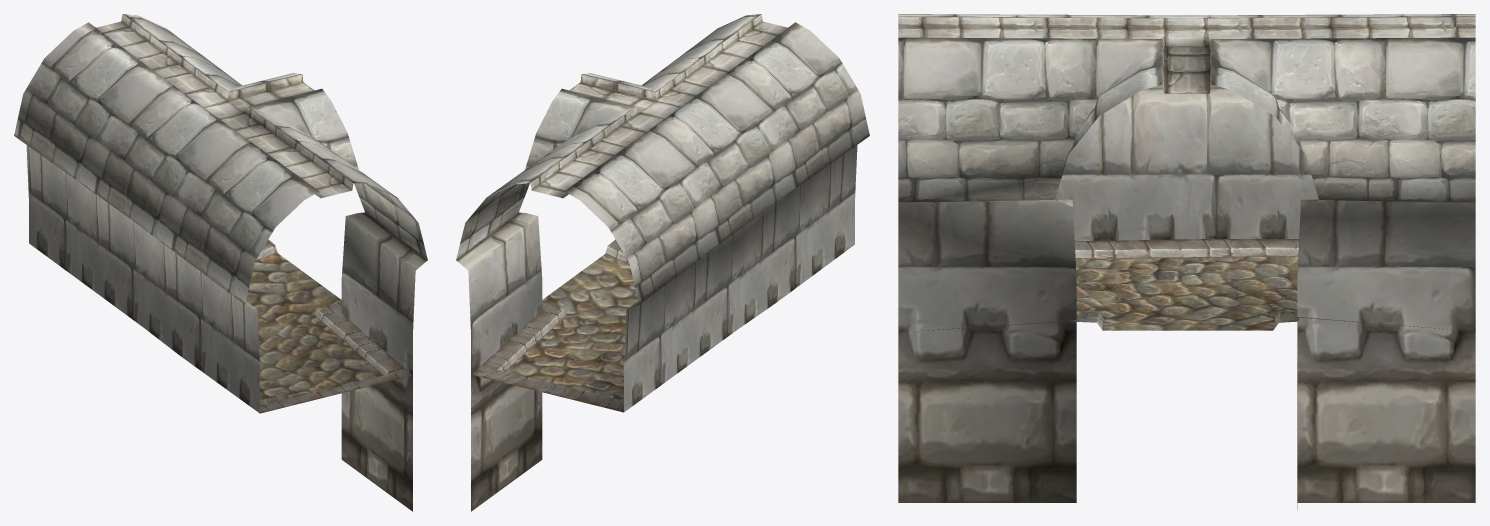
Rendered from stormwind_080.fbx.
The picture shows the model from 3 angles, left to right: view 1: azimuth 30°, elevation 25°; view 2: azimuth 150°, elevation 25°; view 3: azimuth 270°, elevation 25°; orthographic projection. The views are drawn at different scales.
Parts seen in each view (by area): view 1: stormwind_080_4, stormwind_080_11, stormwind_080_46, stormwind_080_5, stormwind_080_12; view 2: stormwind_080_4, stormwind_080_11, stormwind_080_46, stormwind_080_5, stormwind_080_12; view 3: stormwind_080_11, stormwind_080_4, stormwind_080_46, stormwind_080_5, stormwind_080_12.
Part boxes in pixels (x1,y1,x2,y2): stormwind_080_4: [14, 14, 427, 304]; stormwind_080_11: [26, 145, 427, 511]; stormwind_080_46: [246, 253, 382, 403]; stormwind_080_5: [96, 14, 353, 198]; stormwind_080_12: [256, 239, 412, 413]; stormwind_080_4: [456, 14, 869, 304]; stormwind_080_11: [456, 145, 857, 511]; stormwind_080_46: [505, 254, 637, 399]; stormwind_080_5: [530, 14, 787, 198]; stormwind_080_12: [471, 239, 629, 412]; stormwind_080_11: [898, 88, 1475, 510]; stormwind_080_4: [898, 14, 1475, 201]; stormwind_080_46: [1075, 256, 1298, 330]; stormwind_080_5: [898, 17, 1475, 93]; stormwind_080_12: [908, 239, 1455, 331].
Bounding box in the file's own units: 10.07 × 18.07 × 22.05.
